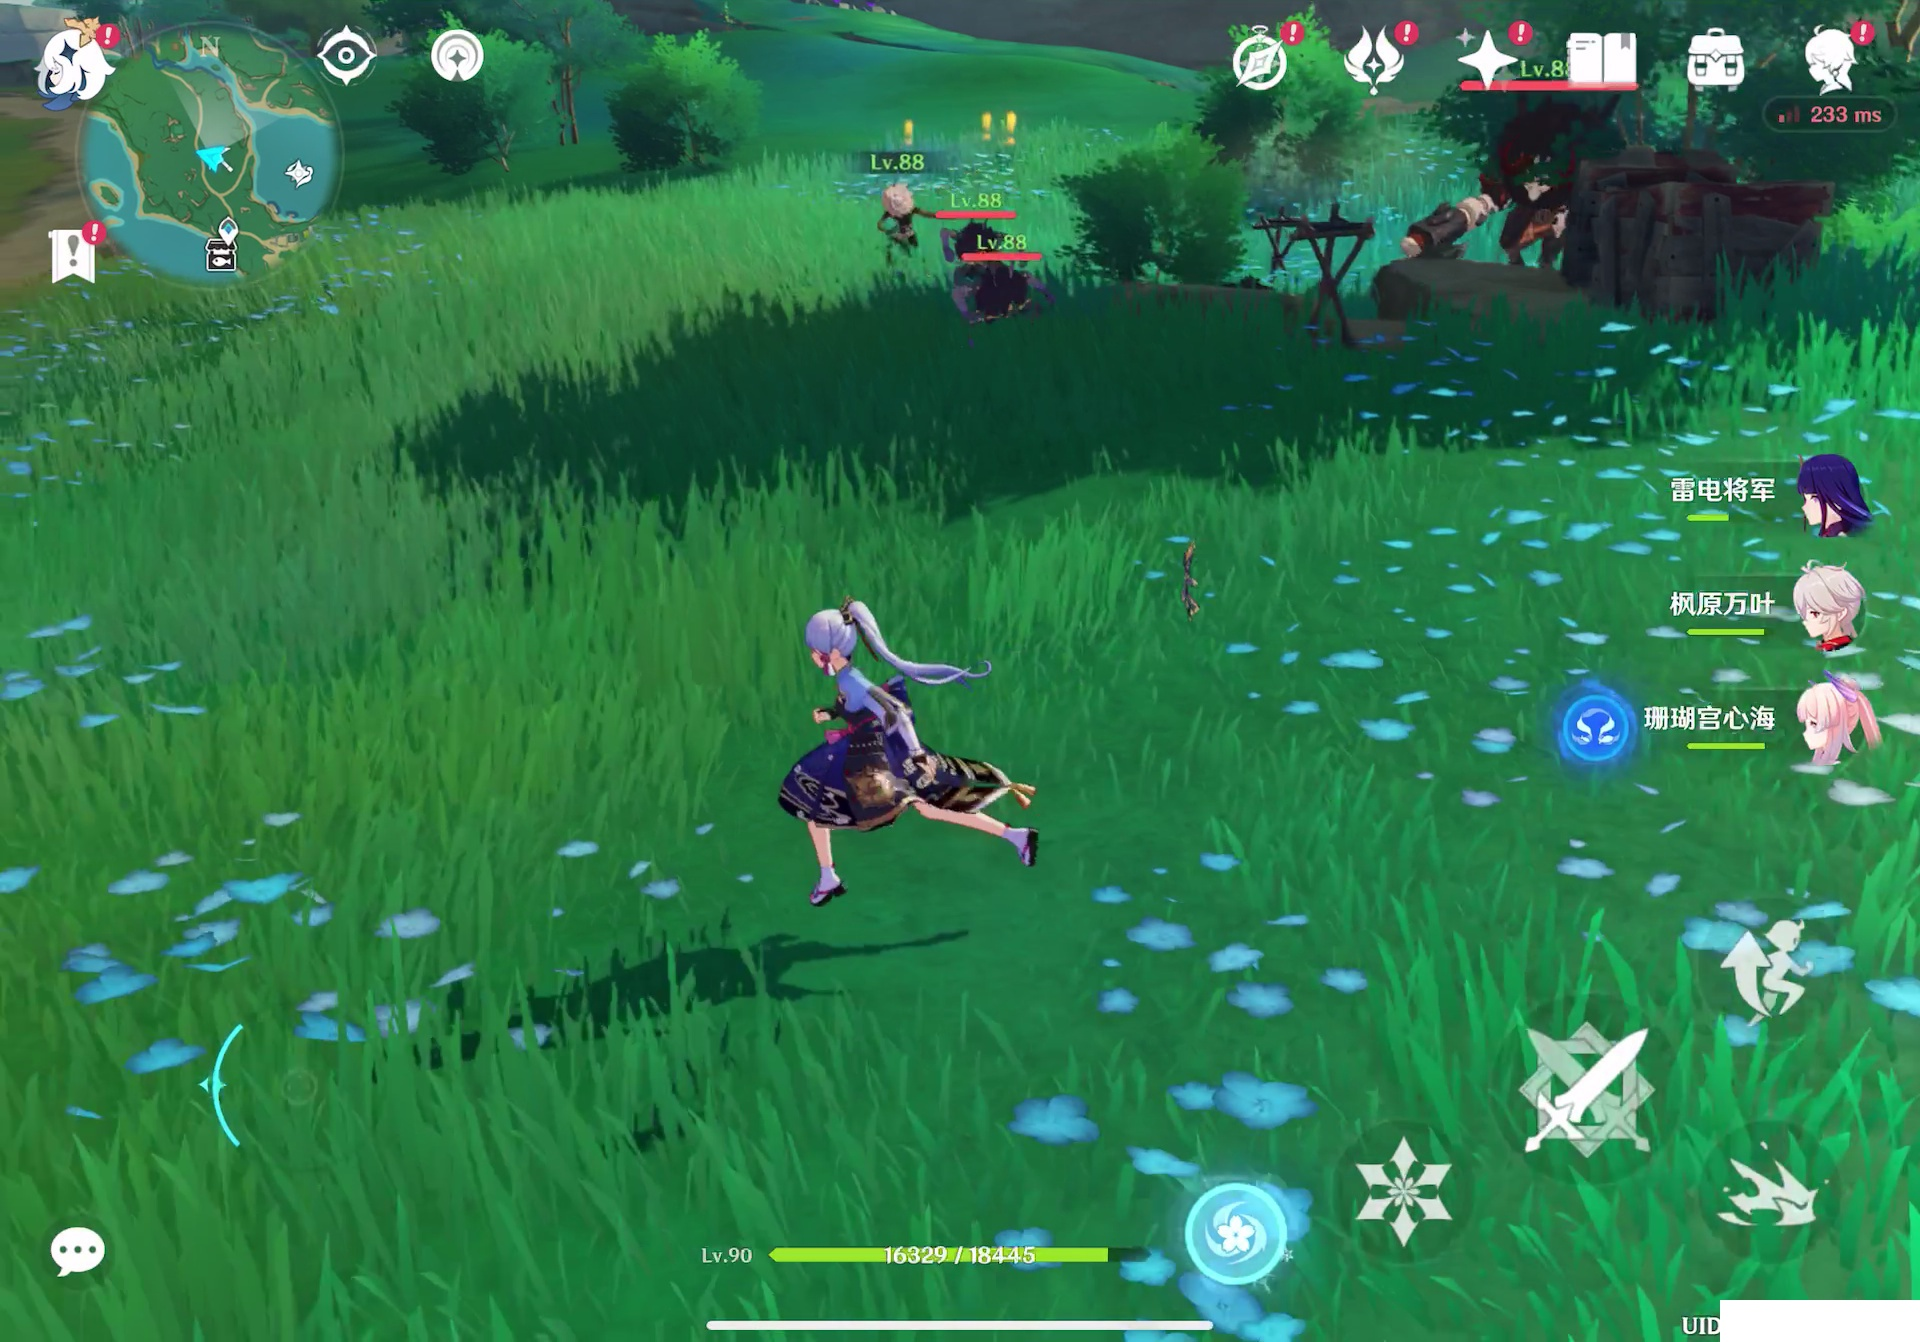NTR: (1452, 93, 1573, 260)
丘丘人: (963, 265, 1045, 331), (872, 175, 937, 251)
神里绫龟: (781, 581, 1030, 904)
